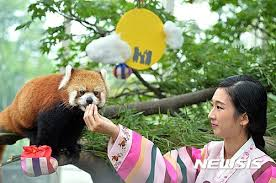redPanda: (0, 67, 113, 160)
